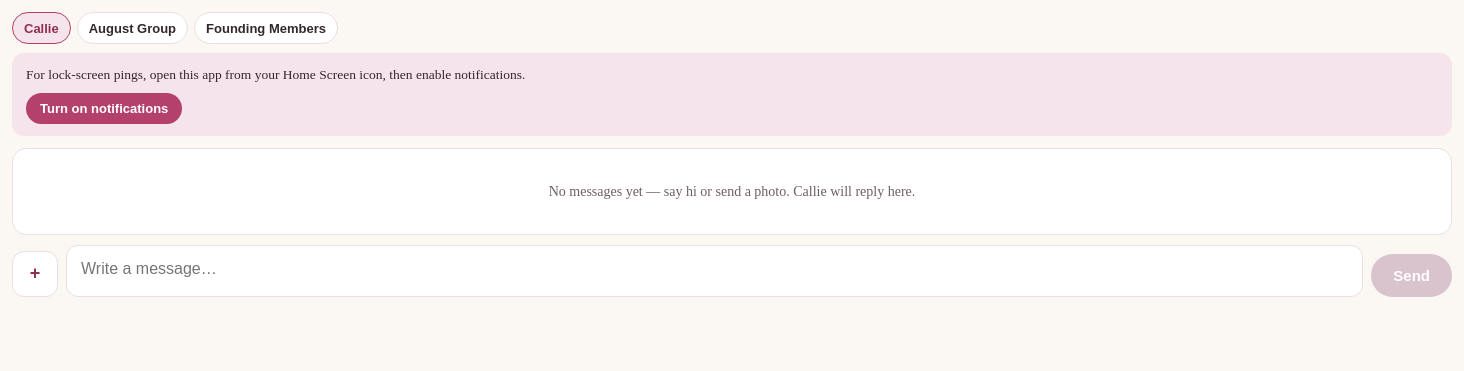
Test: Realtime traffic › does not reload the open thread for a message in another group
The width and height of the screenshot is (1464, 371).
Step 1. Click the button "August Group" → click(132, 28), box 77,12 -> 188,44
Wait 1250 ms
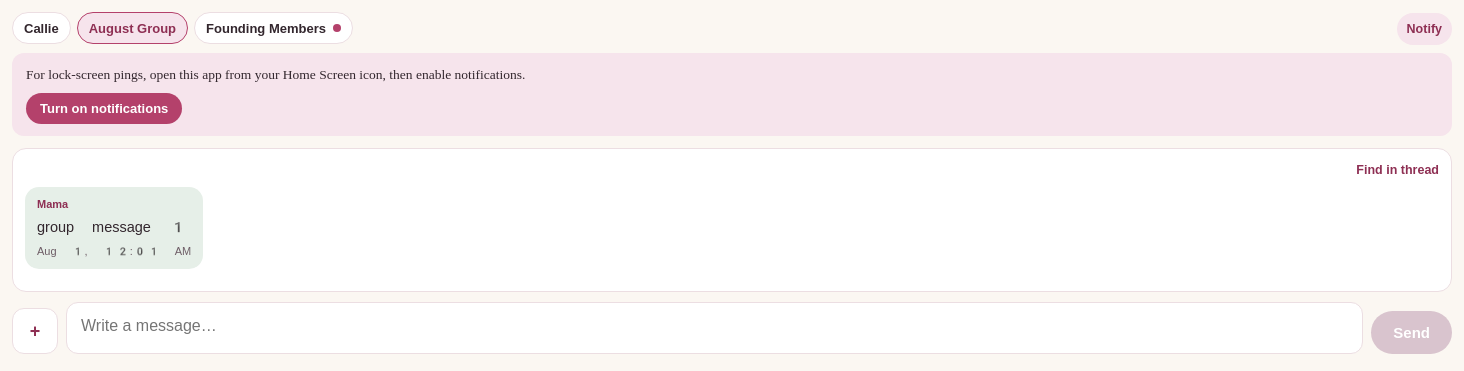
Now the element named "Unread group messages" is shown, box 333,24 -> 341,32
